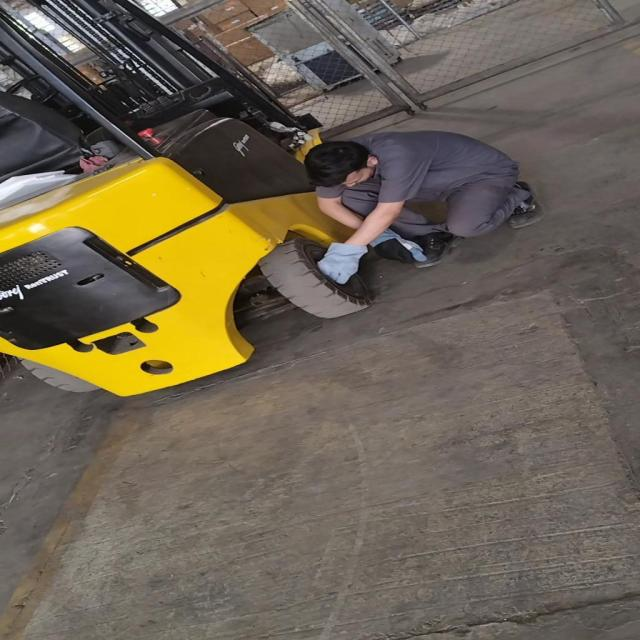Gloves-Detection: (365, 227, 440, 266), (307, 239, 359, 287)
